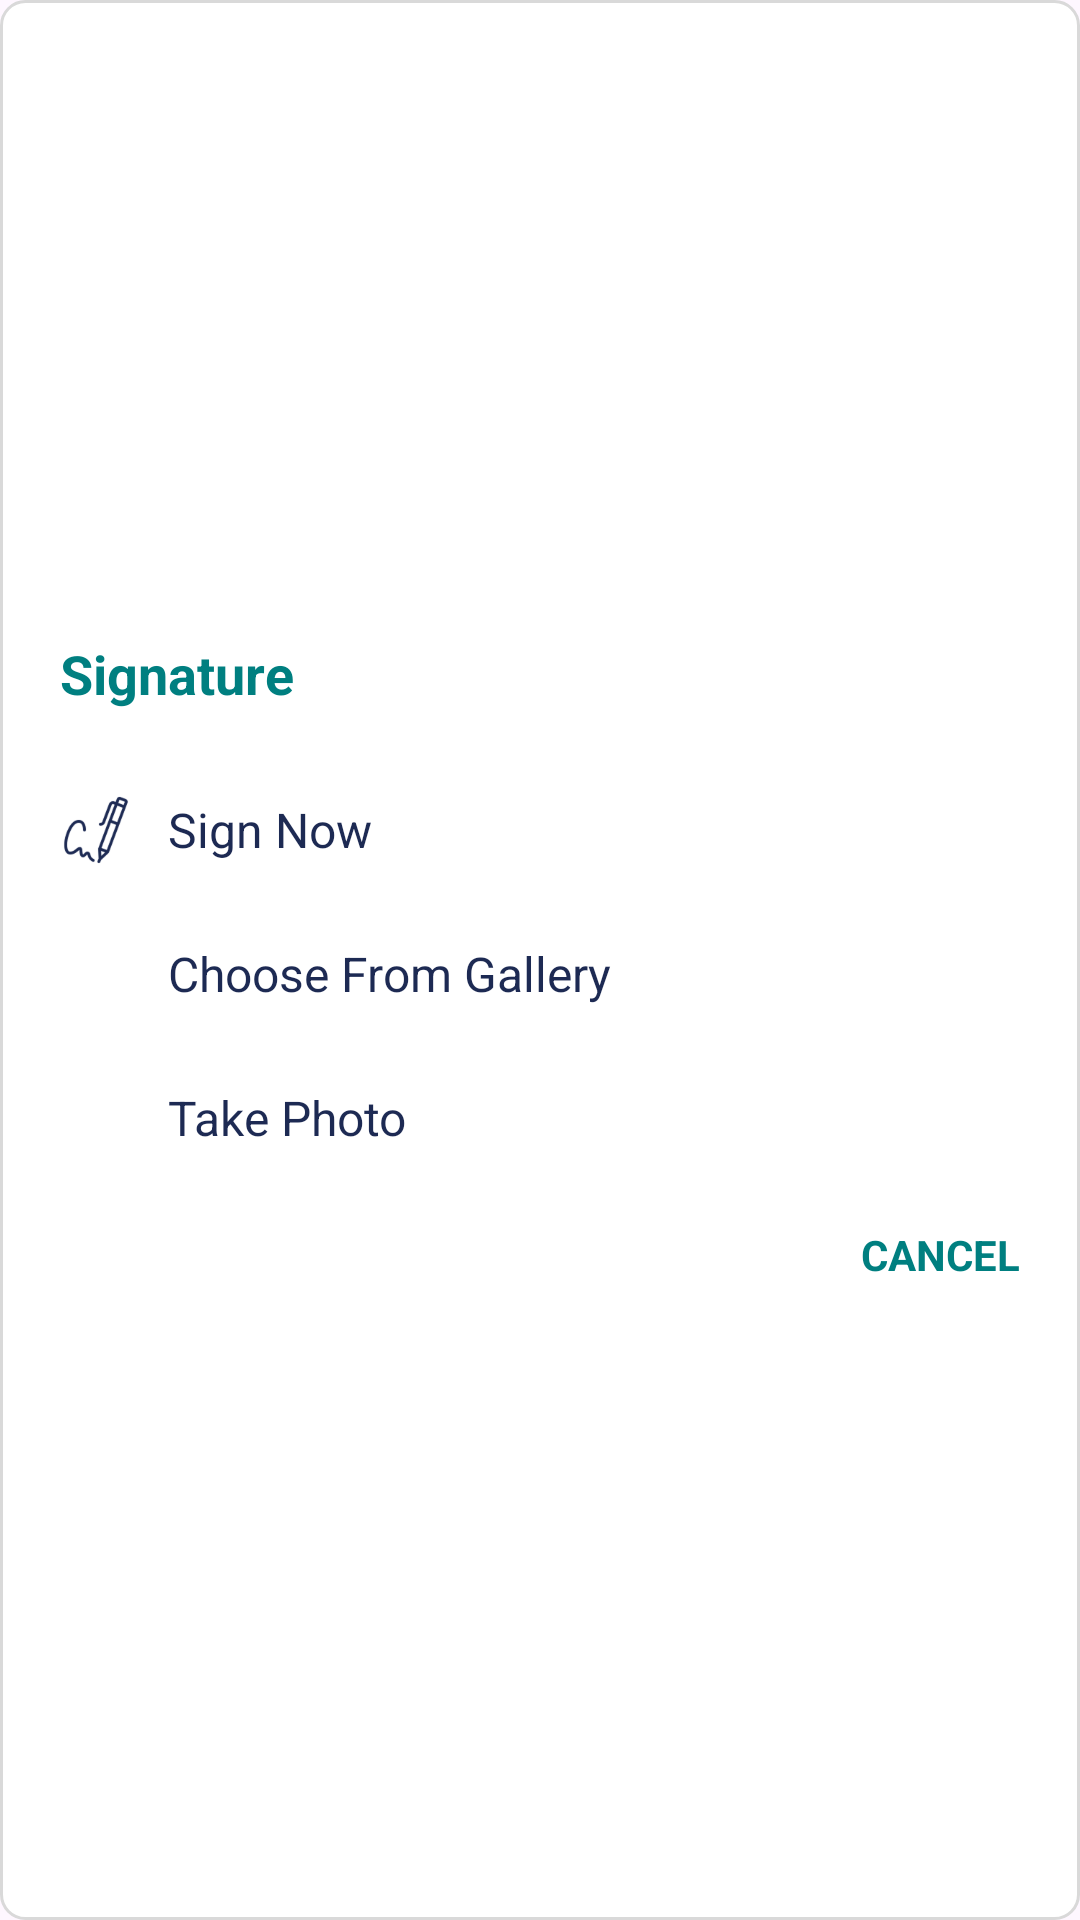

Icons on this 1080x1920 Android screen, each with its box as Rect(x1, y1, x2, y2):
autograph: Rect(64, 797, 128, 863)
